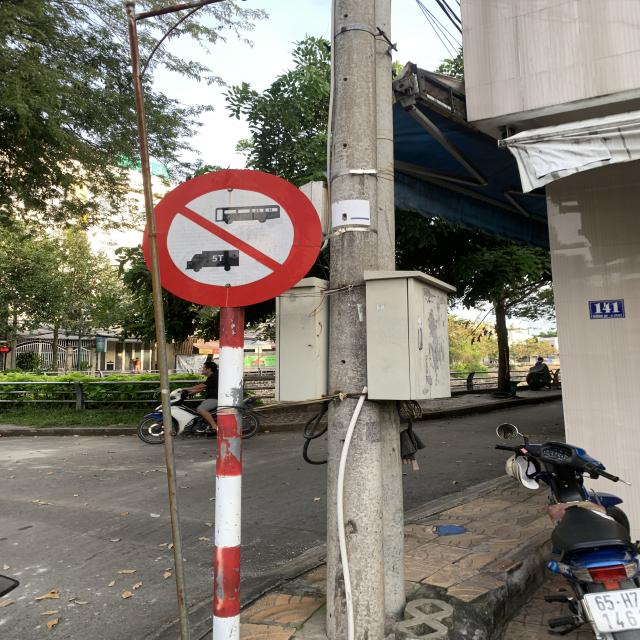Cam_XeTai_XeKhach: (144, 169, 325, 309)
